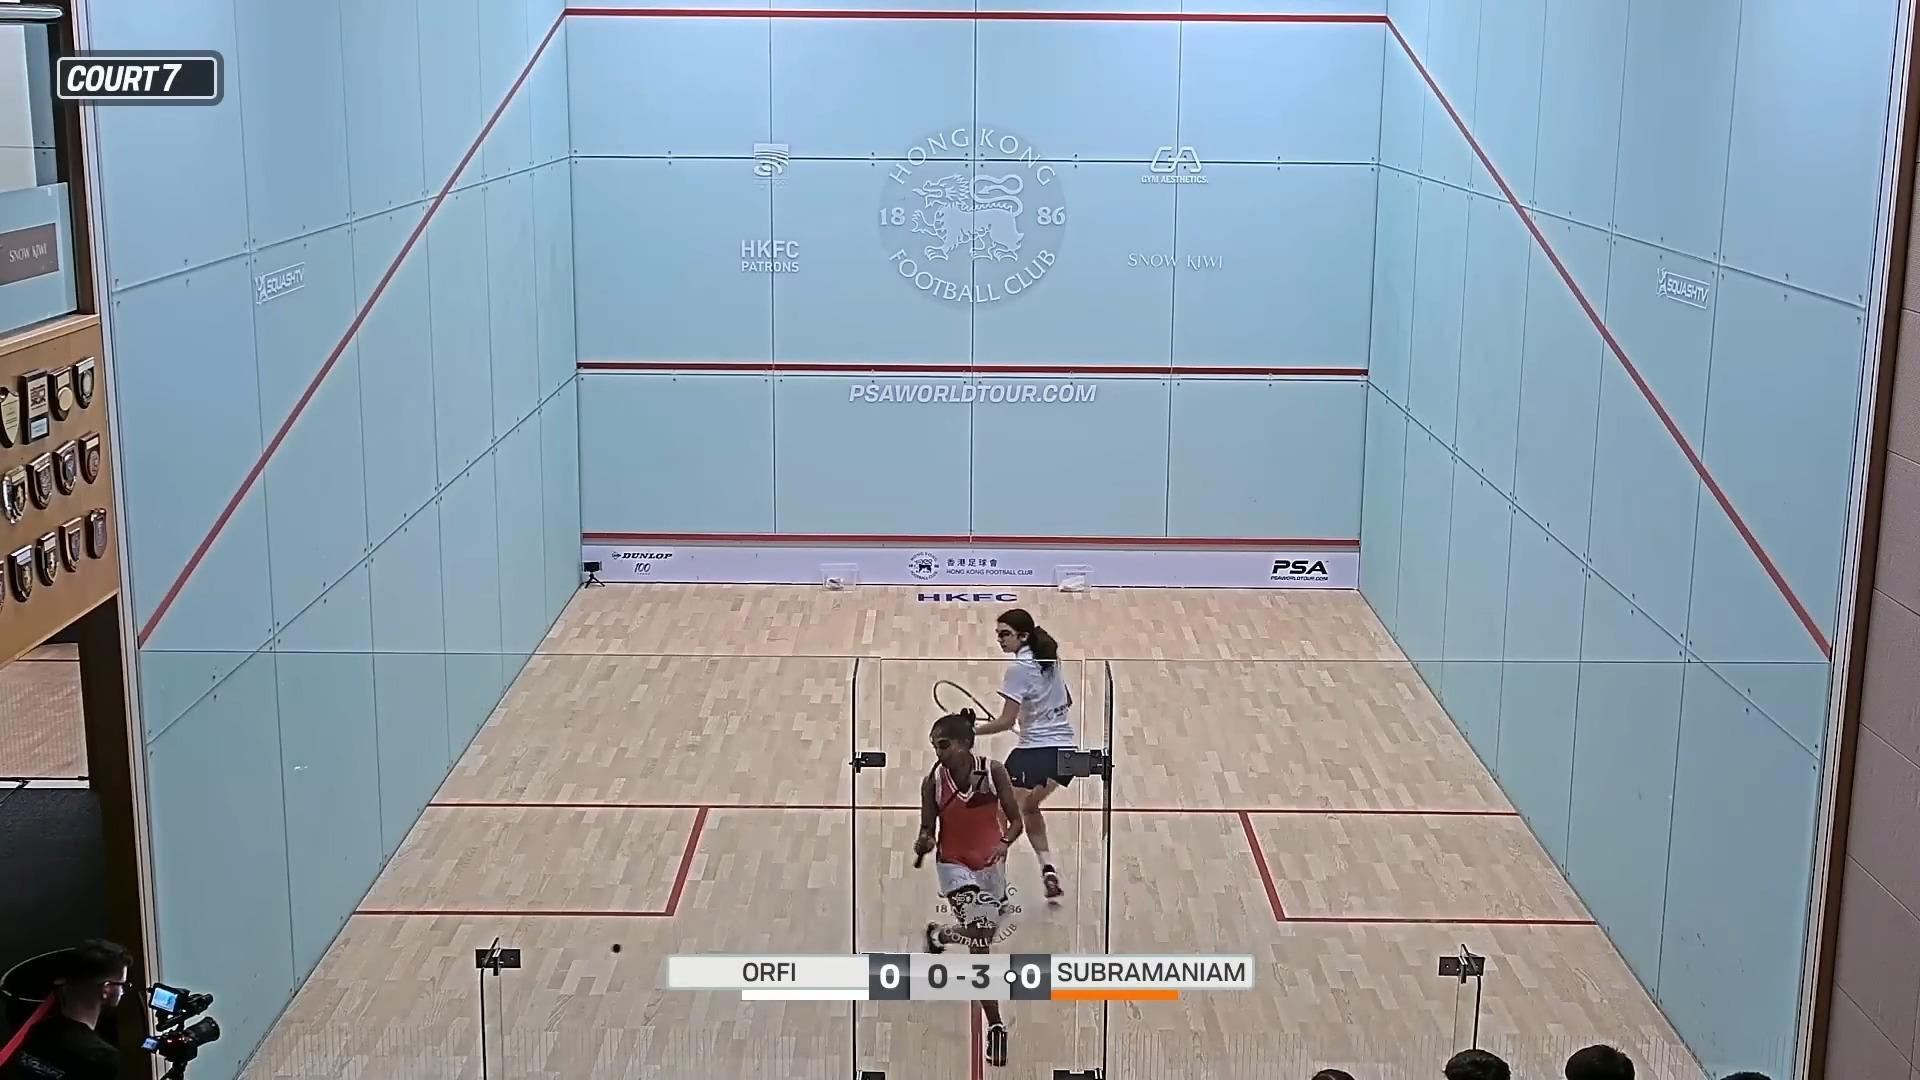Squash-Ball: (601, 935, 632, 964)
